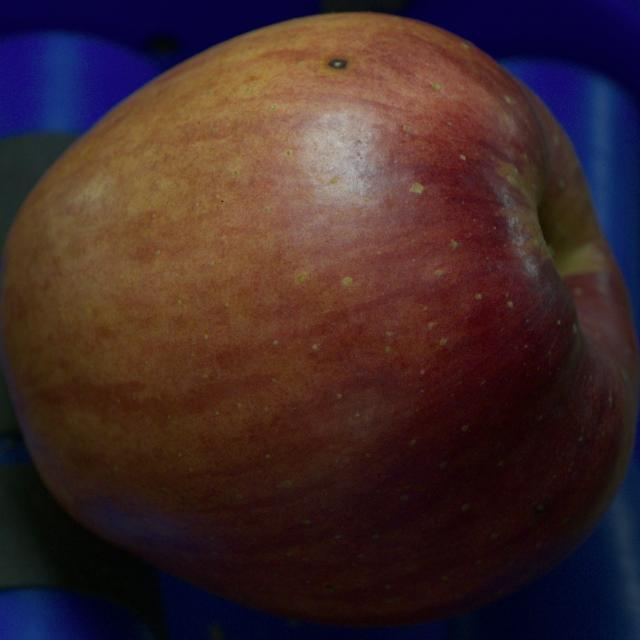apple: (1, 13, 639, 626)
pest: (328, 59, 347, 69)
